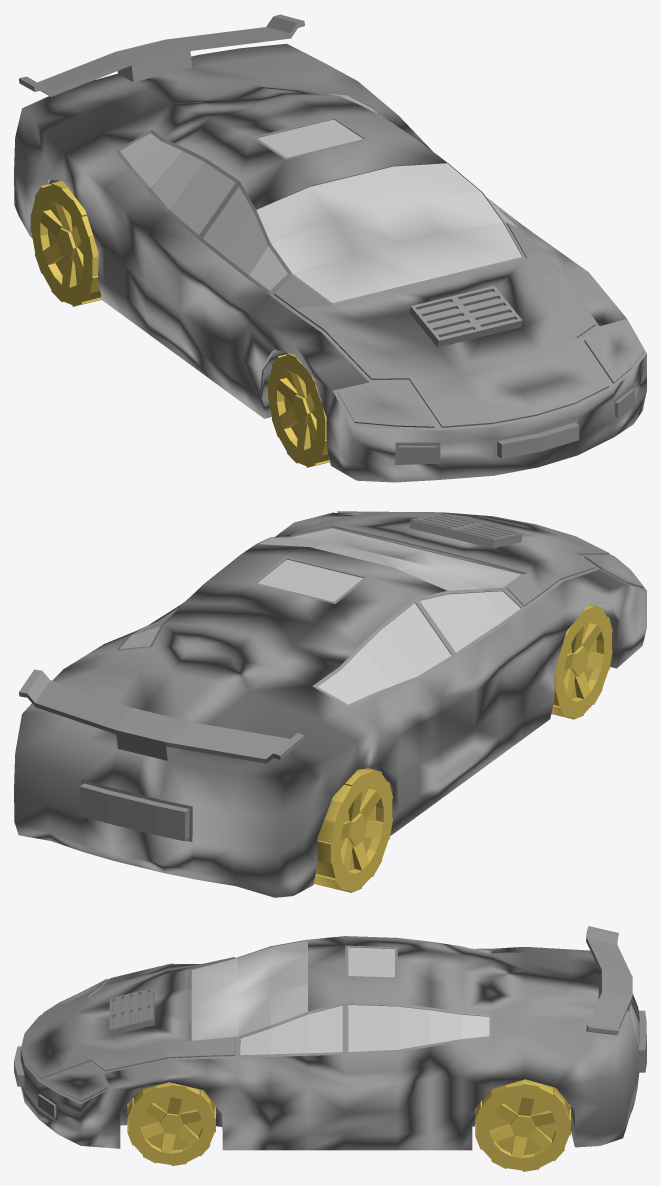
Rendered from CAR_001.obj.
The picture shows the model from 3 angles, top to bottom: view 1: azimuth 30°, elevation 25°; view 2: azimuth 150°, elevation 25°; view 3: azimuth 270°, elevation 25°; orthographic projection. The views are drawn at different scales.
Parts seen in each view (by area): view 1: carBody, Cylinder001, Cylinder002; view 2: carBody, Cylinder001, Cylinder002; view 3: carBody, Cylinder001, Cylinder002.
Part boxes in pixels (bbox=[...]): carBody: bbox=[14, 14, 646, 482]; Cylinder001: bbox=[30, 181, 101, 306]; Cylinder002: bbox=[268, 353, 329, 467]; carBody: bbox=[14, 511, 646, 897]; Cylinder001: bbox=[313, 768, 392, 892]; Cylinder002: bbox=[551, 604, 612, 719]; carBody: bbox=[14, 926, 646, 1150]; Cylinder001: bbox=[475, 1079, 570, 1171]; Cylinder002: bbox=[127, 1082, 215, 1165].
Size of the model in its own units: 197 by 126 by 468.
